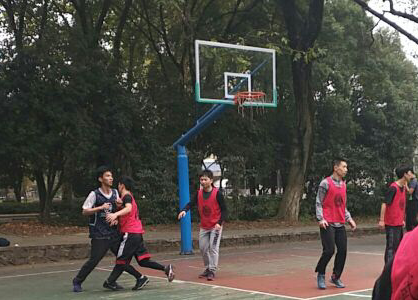basket: (235, 91, 266, 120)
player: (115, 178, 173, 288), (73, 167, 124, 291), (178, 169, 228, 280), (314, 159, 355, 290), (378, 166, 418, 266)
